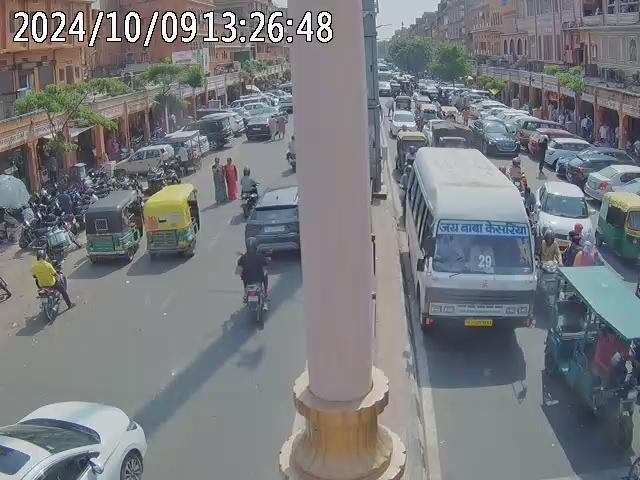auto: (546, 263, 640, 444), (80, 187, 144, 267), (594, 189, 639, 296), (142, 182, 201, 260)
bus: (405, 148, 536, 338)
car: (1, 400, 150, 479), (534, 180, 593, 262), (583, 163, 639, 202), (542, 136, 594, 169), (478, 118, 522, 156), (244, 113, 278, 146), (388, 109, 417, 136), (473, 98, 510, 118), (376, 81, 392, 96)
helmet: (246, 235, 259, 253), (36, 250, 46, 258), (244, 166, 250, 174)
license_plate: (465, 317, 493, 328)
motorbike-rider: (30, 248, 73, 322), (236, 238, 270, 326), (237, 166, 260, 217), (505, 157, 529, 195)
